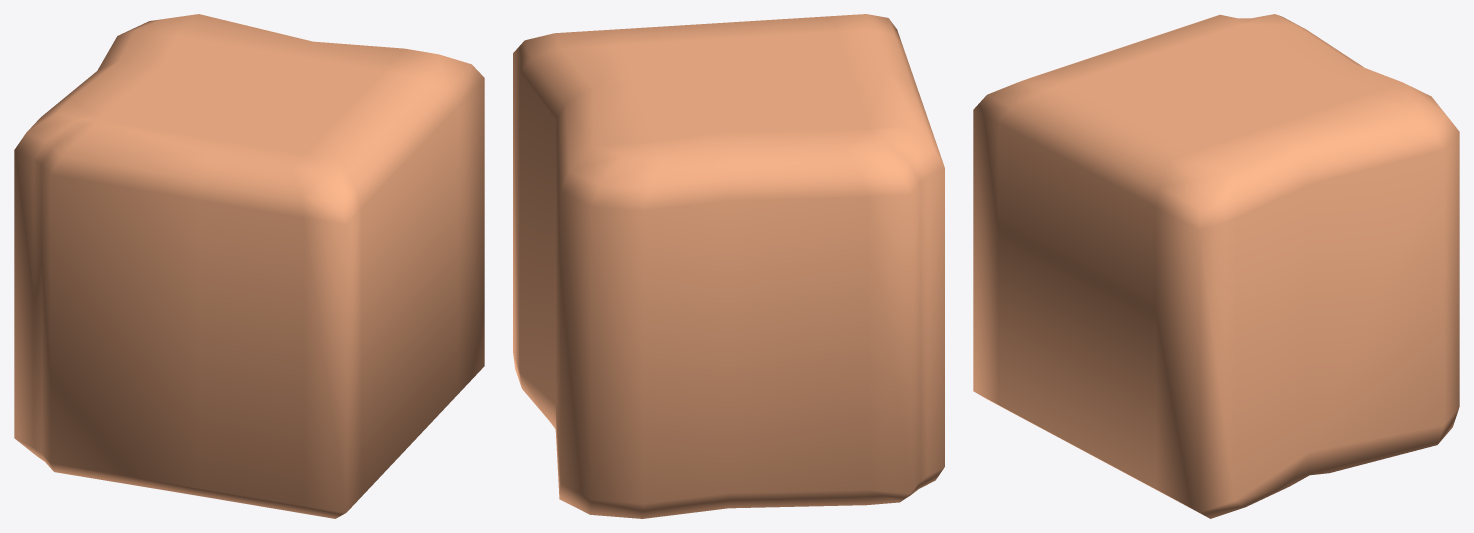
File: stone.fbx
The picture shows the model from 3 angles, left to right: view 1: azimuth 30°, elevation 25°; view 2: azimuth 150°, elevation 25°; view 3: azimuth 270°, elevation 25°; orthographic projection. The views are drawn at different scales.
Visible parts, largest first — view 1: Cube.012; view 2: Cube.012; view 3: Cube.012.
Boxes of the visible parts, x1,y1,x2,y2 form: Cube.012: (14,14,484,518); Cube.012: (513,14,944,518); Cube.012: (973,14,1459,518).
Bounding box in the file's own units: 217 × 165 × 218.
